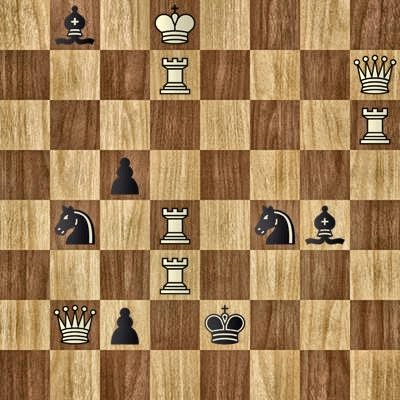black-bishop: (50, 0, 100, 50), (300, 200, 350, 250)
black-king: (200, 300, 250, 350)
black-knight: (50, 200, 100, 250), (250, 200, 300, 250)
black-pawn: (100, 150, 150, 200), (100, 300, 150, 350)
white-king: (150, 0, 200, 50)
white-queen: (350, 50, 400, 100), (50, 300, 100, 350)
white-rook: (150, 50, 200, 100), (350, 100, 400, 150), (150, 200, 200, 250), (150, 250, 200, 300)
